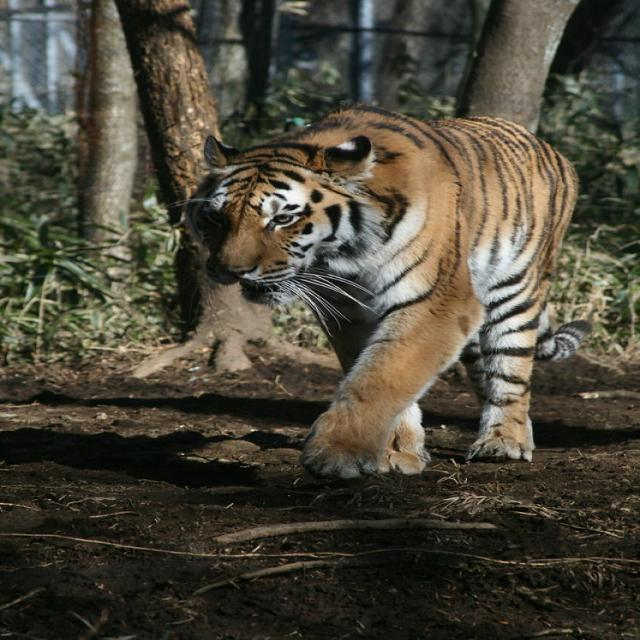Tiger: (168, 100, 593, 478)
